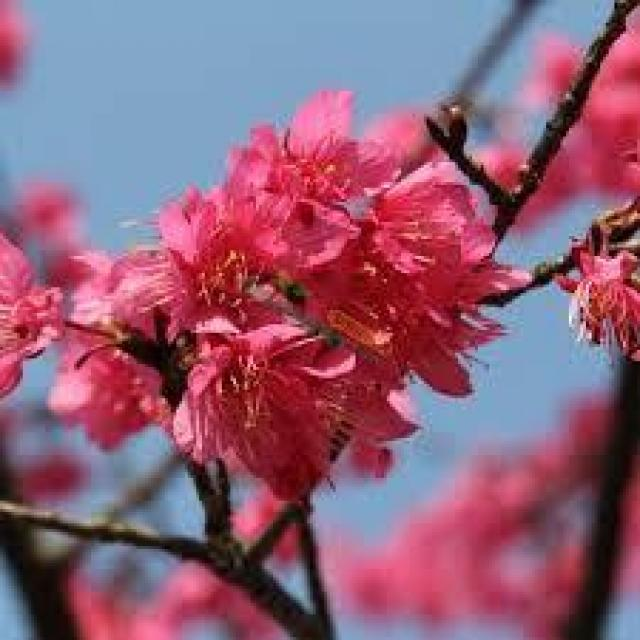organic waste: (282, 156, 534, 398), (152, 284, 363, 506), (209, 84, 408, 283), (135, 178, 320, 343), (5, 242, 60, 395), (559, 236, 630, 330)
